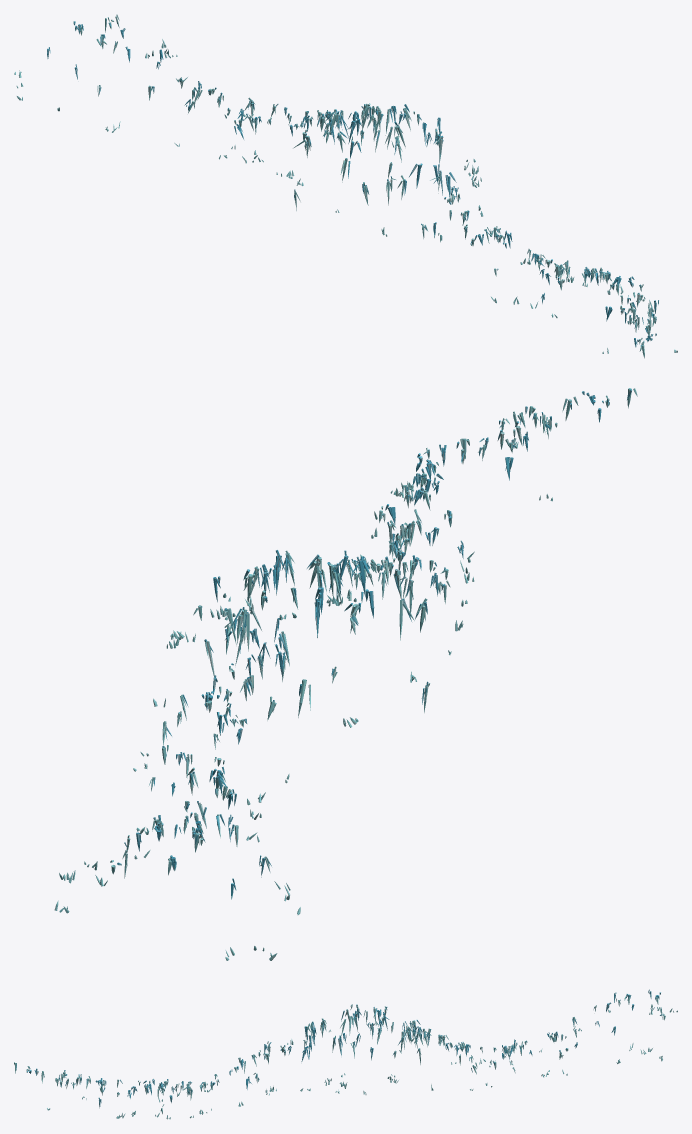
Rendered from cave_echo_grotto_glow.glb.
The picture shows the model from 3 angles, top to bottom: view 1: azimuth 30°, elevation 25°; view 2: azimuth 150°, elevation 25°; view 3: azimuth 270°, elevation 25°; orthographic projection. The views are drawn at different scales.
Visible parts, largest first — view 1: geometry_0; view 2: geometry_0; view 3: geometry_0.
Part boxes in pixels (bbox=[...]): geometry_0: bbox=[14, 14, 677, 358]; geometry_0: bbox=[54, 388, 637, 960]; geometry_0: bbox=[14, 989, 677, 1119].
Size of the model in its own units: 65.12 by 24.31 by 185.
